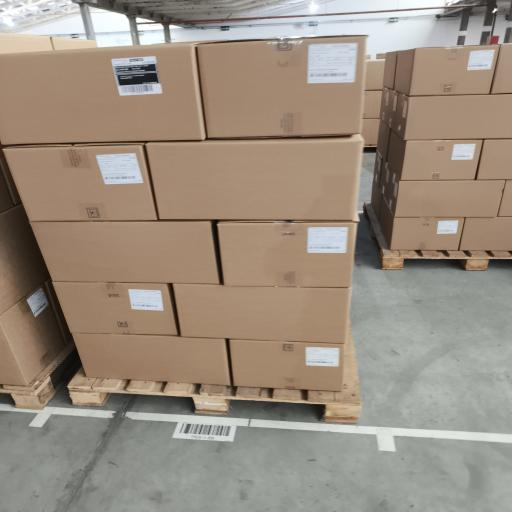pallet: (68, 329, 361, 423), (364, 204, 511, 270), (0, 342, 80, 409)
